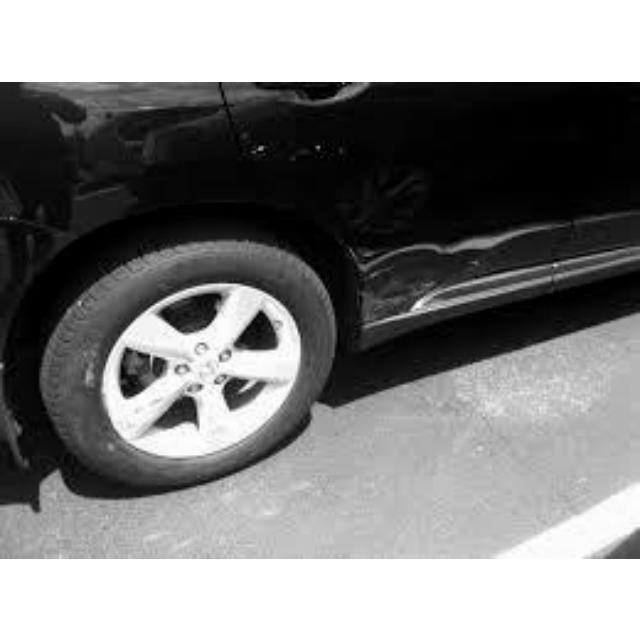doorouter-dent: (331, 84, 542, 315)
